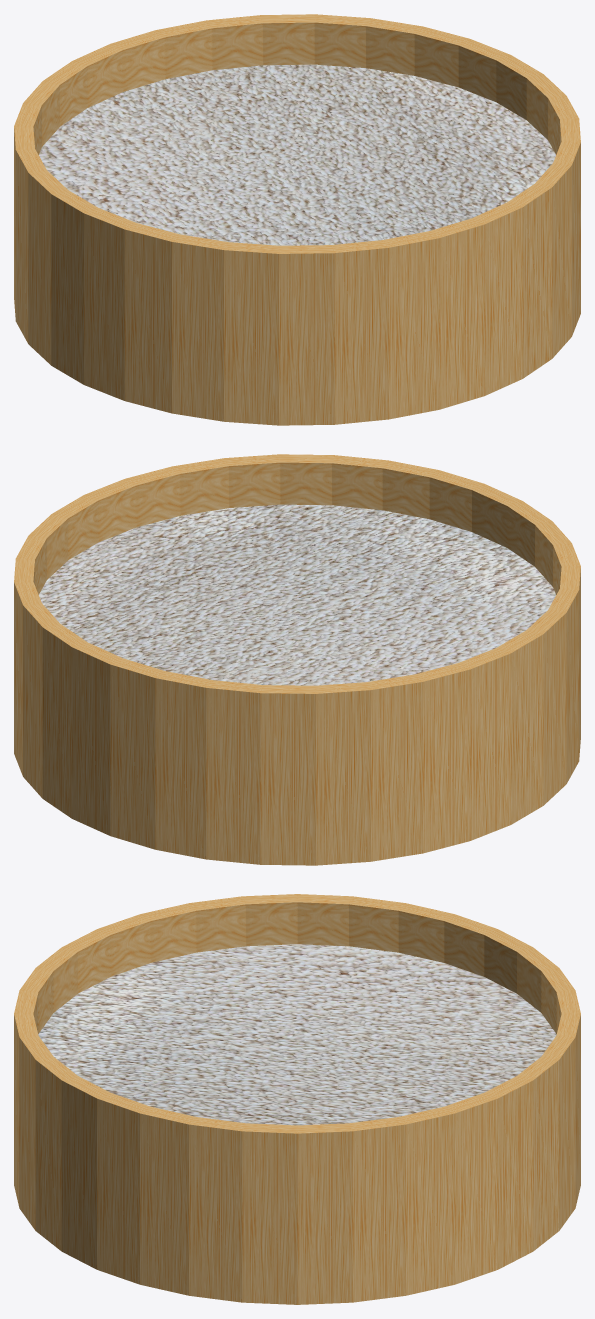
Rendered from RiceBox.fbx.
3 renders of one model, top to bottom at view 1: azimuth 30°, elevation 25°; view 2: azimuth 150°, elevation 25°; view 3: azimuth 270°, elevation 25°, orthographic.
Parts seen in each view (by area): view 1: Cylinder, Circle; view 2: Cylinder, Circle; view 3: Cylinder, Circle.
Boxes of the visible parts, x1,y1,x2,y2 form: Cylinder: [14, 14, 580, 425]; Circle: [39, 64, 555, 245]; Cylinder: [14, 454, 580, 865]; Circle: [39, 504, 555, 685]; Cylinder: [14, 894, 580, 1304]; Circle: [38, 944, 556, 1125].
Size of the model in its own units: 600 by 200 by 600.
Materials: 2 (2 with a texture image).
